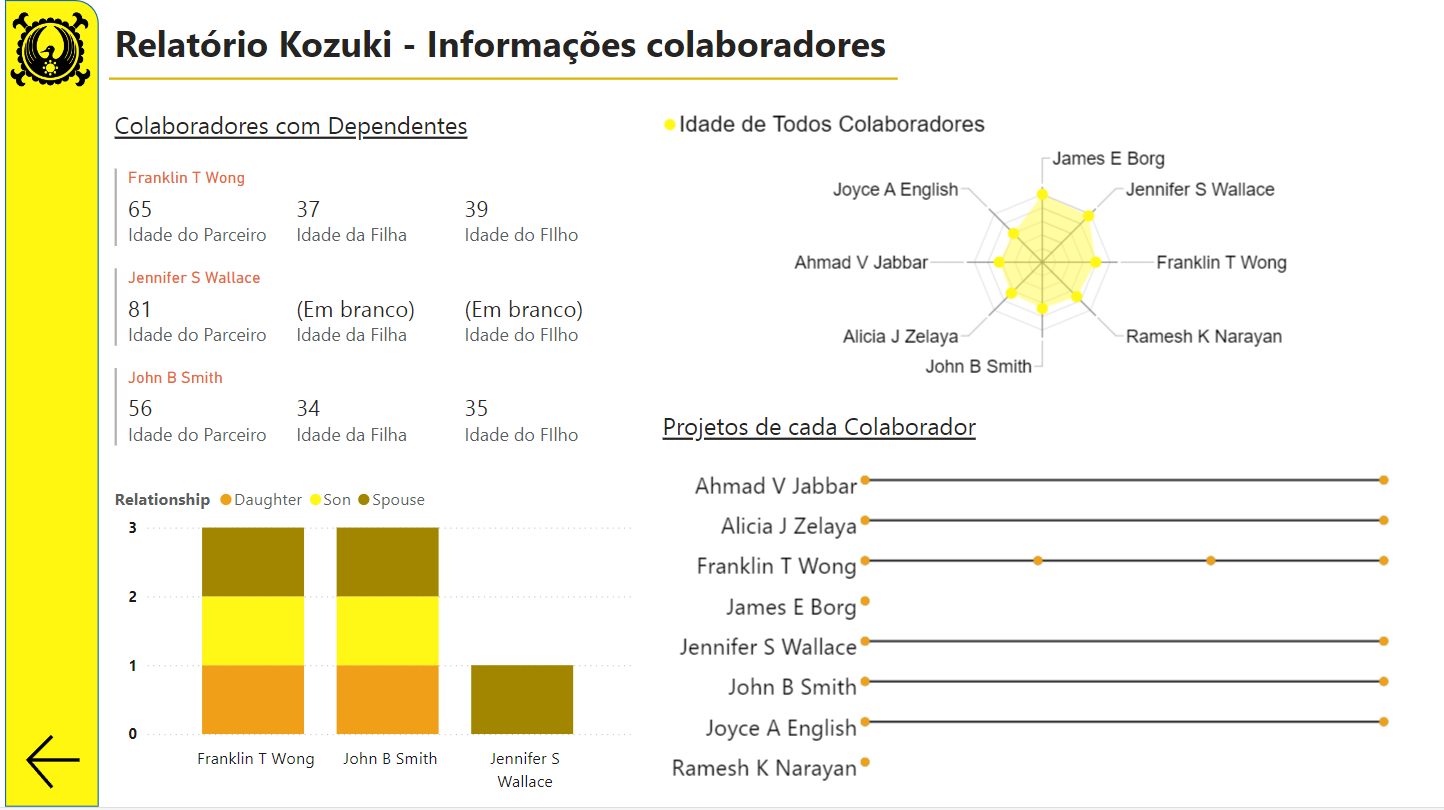

The page's visual inventory and layout, read from the dashboard file:
{"tool":"powerbi","page":{"name":"Página 2","canvas":[1280,720],"ordinal":1},"visuals":[{"type":"textbox","box":[93.1,11.1,718.1,59.7],"z":0},{"type":"shape","box":[0,0,83.6,719.8],"z":1000},{"type":"actionButton","box":[4.1,649.9,78.1,60.3],"z":2000},{"type":"image","box":[0,0,80.9,87.7],"z":3000},{"type":"shape","box":[92.8,49.4,703.6,42.2],"z":3001},{"type":"lineStackedColumnComboChart","fields":{"Category":["Aqui foi.Nome_Completo"],"Series":["company_idadeserelacionamento.Relationship"],"Y":["company_idadeserelacionamento.Idade_dependente"]},"box":[93.1,425,472.2,288.9],"z":3003},{"type":"RadarChart1446119667547","fields":{"Category":["company_idadesprojetos.Nome_Completo"],"Y":["company_idadesprojetos.Idade"]},"box":[581.9,87.5,687.5,256.9],"z":3004},{"type":"multiRowCard","fields":{"Values":["Aqui foi.Nome_Completo","Aqui foi.Spouse","Aqui foi.Daugther","Aqui foi.Son"]},"box":[93.1,145.8,472.2,291.7],"z":3005},{"type":"textbox","box":[93.2,91.9,427.8,54.8],"z":3006},{"type":"PBI_CV_25997FEB_F466_44FA_B562_AC4063283C4C","fields":{"axis":["company_project.Pname"],"category":["company_idadesprojetos.Nome_Completo"],"measure":["company_idadesprojetos.Num_projetos"]},"box":[581.3,411.3,670.4,308.5],"z":3007},{"type":"textbox","box":[581.3,360.6,556.6,43.9],"z":3008}]}

Visuals, with their boxes in screenshot pixels (x1, y1, x2, y2), scaled from the page's 1280x720 canvas onto the 1444x810 screenshot:
textbox: locate(105, 12, 915, 80)
shape: locate(0, 0, 94, 809)
actionButton: locate(5, 731, 93, 799)
image: locate(0, 0, 91, 99)
shape: locate(105, 56, 898, 103)
lineStackedColumnComboChart - Aqui foi.Nome_Completo x company_idadeserelacionamento.Relationship: locate(105, 478, 638, 803)
RadarChart1446119667547 - company_idadesprojetos.Nome_Completo x company_idadesprojetos.Idade: locate(656, 98, 1432, 387)
multiRowCard - Aqui foi.Nome_Completo x Aqui foi.Spouse: locate(105, 164, 638, 492)
textbox: locate(105, 103, 588, 165)
PBI_CV_25997FEB_F466_44FA_B562_AC4063283C4C - company_project.Pname x company_idadesprojetos.Nome_Completo: locate(656, 463, 1412, 809)
textbox: locate(656, 406, 1284, 455)
